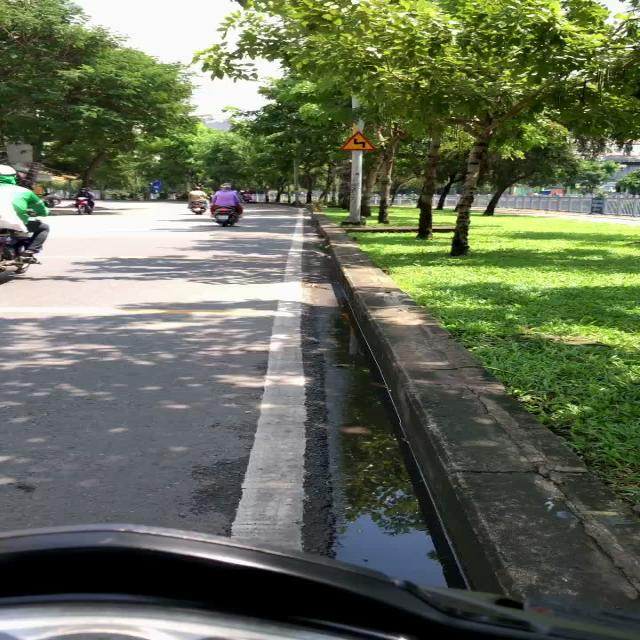Bien bao nhieu cho ngoat nguy hiem lien tiep: (334, 128, 381, 154)
